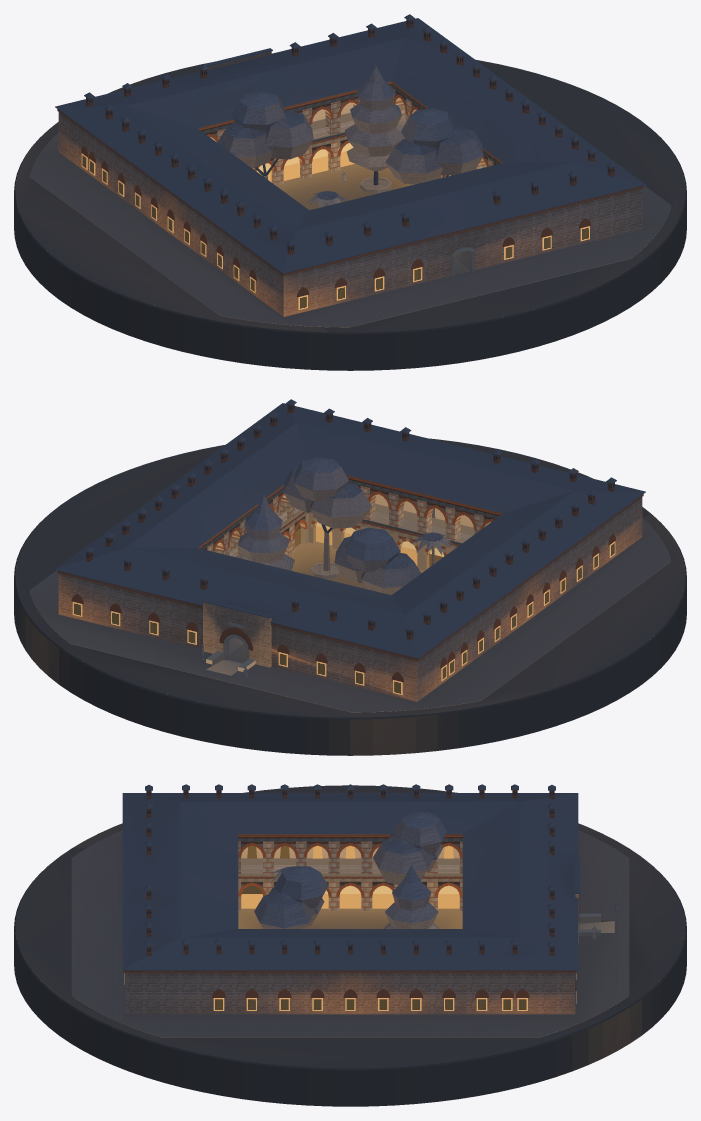
Rendered from emir-hani_v08_night_sunum.glb.
3 renders of one model, top to bottom at view 1: azimuth 30°, elevation 25°; view 2: azimuth 150°, elevation 25°; view 3: azimuth 270°, elevation 25°, orthographic.
Parts seen in each view (by area): view 1: Emir_Hani, Zemin_Kaide, Zemin_Sokak, Avlu_Revaklari, Cevre_Agac_02, Cevre_Agac_01, Cevre_Agac_03, Han_Avlu, Girisler; view 2: Emir_Hani, Zemin_Kaide, Zemin_Sokak, Avlu_Revaklari, Cevre_Agac_02, Girisler, Cevre_Agac_01, Cevre_Agac_03, Han_Avlu; view 3: Emir_Hani, Zemin_Kaide, Zemin_Sokak, Avlu_Revaklari, Cevre_Agac_01, Cevre_Agac_02, Han_Avlu, Cevre_Agac_03, Girisler.
Part boxes in pixels (x1,y1,x2,y2): Emir_Hani: [55, 14, 645, 316]; Zemin_Kaide: [14, 59, 686, 370]; Zemin_Sokak: [29, 133, 671, 327]; Avlu_Revaklari: [198, 81, 502, 185]; Cevre_Agac_02: [385, 108, 483, 184]; Cevre_Agac_01: [217, 91, 313, 179]; Cevre_Agac_03: [344, 66, 404, 193]; Han_Avlu: [276, 164, 414, 210]; Girisler: [201, 48, 474, 276]; Emir_Hani: [55, 399, 645, 701]; Zemin_Kaide: [14, 438, 686, 755]; Zemin_Sokak: [29, 518, 671, 712]; Avlu_Revaklari: [198, 475, 502, 570]; Cevre_Agac_02: [283, 457, 371, 579]; Girisler: [201, 599, 272, 675]; Cevre_Agac_01: [334, 527, 421, 595]; Cevre_Agac_03: [236, 495, 294, 570]; Han_Avlu: [289, 541, 424, 589]; Emir_Hani: [122, 784, 578, 1014]; Zemin_Kaide: [14, 785, 686, 1106]; Zemin_Sokak: [71, 830, 629, 1037]; Avlu_Revaklari: [238, 834, 462, 910]; Cevre_Agac_01: [373, 812, 446, 884]; Cevre_Agac_02: [254, 866, 328, 928]; Han_Avlu: [238, 896, 462, 928]; Cevre_Agac_03: [383, 865, 439, 928]; Girisler: [574, 859, 614, 942].
Size of the model in its own units: 74.78 by 15.61 by 74.78.
25 materials, 10 textured.
